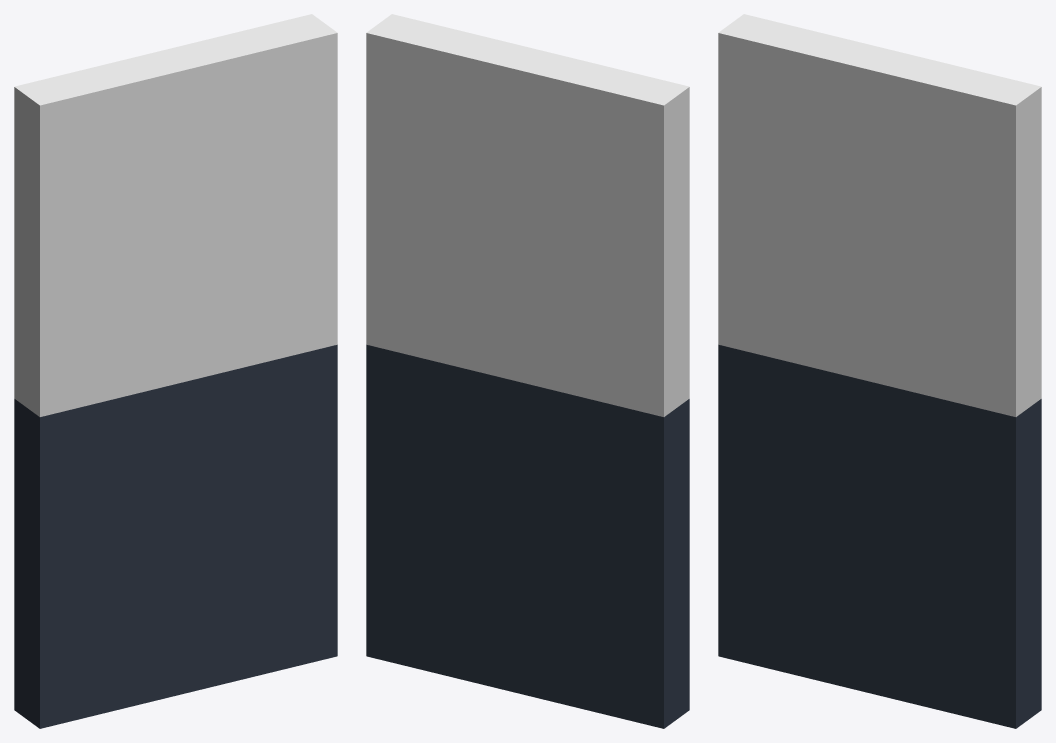
Rendered from SM_OfficeWallOpenThin.fbx.
3 renders of one model, left to right at view 1: azimuth 30°, elevation 25°; view 2: azimuth 150°, elevation 25°; view 3: azimuth 330°, elevation 25°, orthographic.
Visible parts, largest first — view 1: SM_WallOpenAvg; view 2: SM_WallOpenAvg; view 3: SM_WallOpenAvg.
Part boxes in pixels (x1,y1,x2,y2): SM_WallOpenAvg: [14, 14, 337, 728]; SM_WallOpenAvg: [366, 14, 689, 728]; SM_WallOpenAvg: [718, 14, 1041, 728].
Size of the model in its own units: 100 by 200 by 15.
